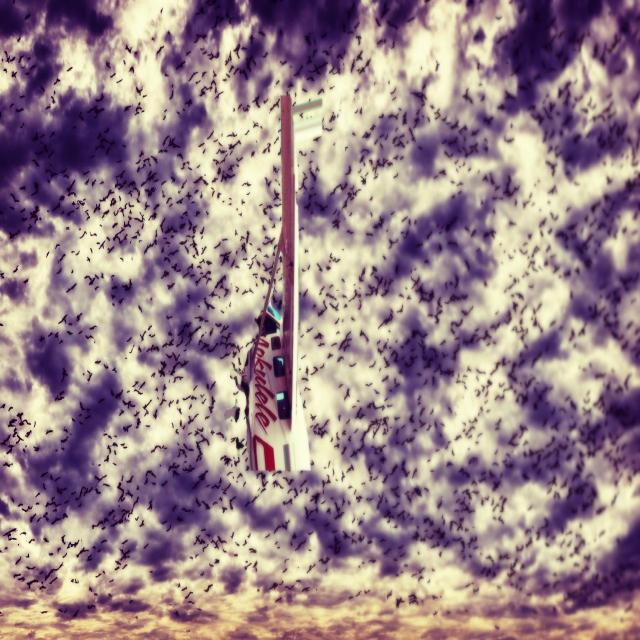airplane: (241, 91, 323, 473)
